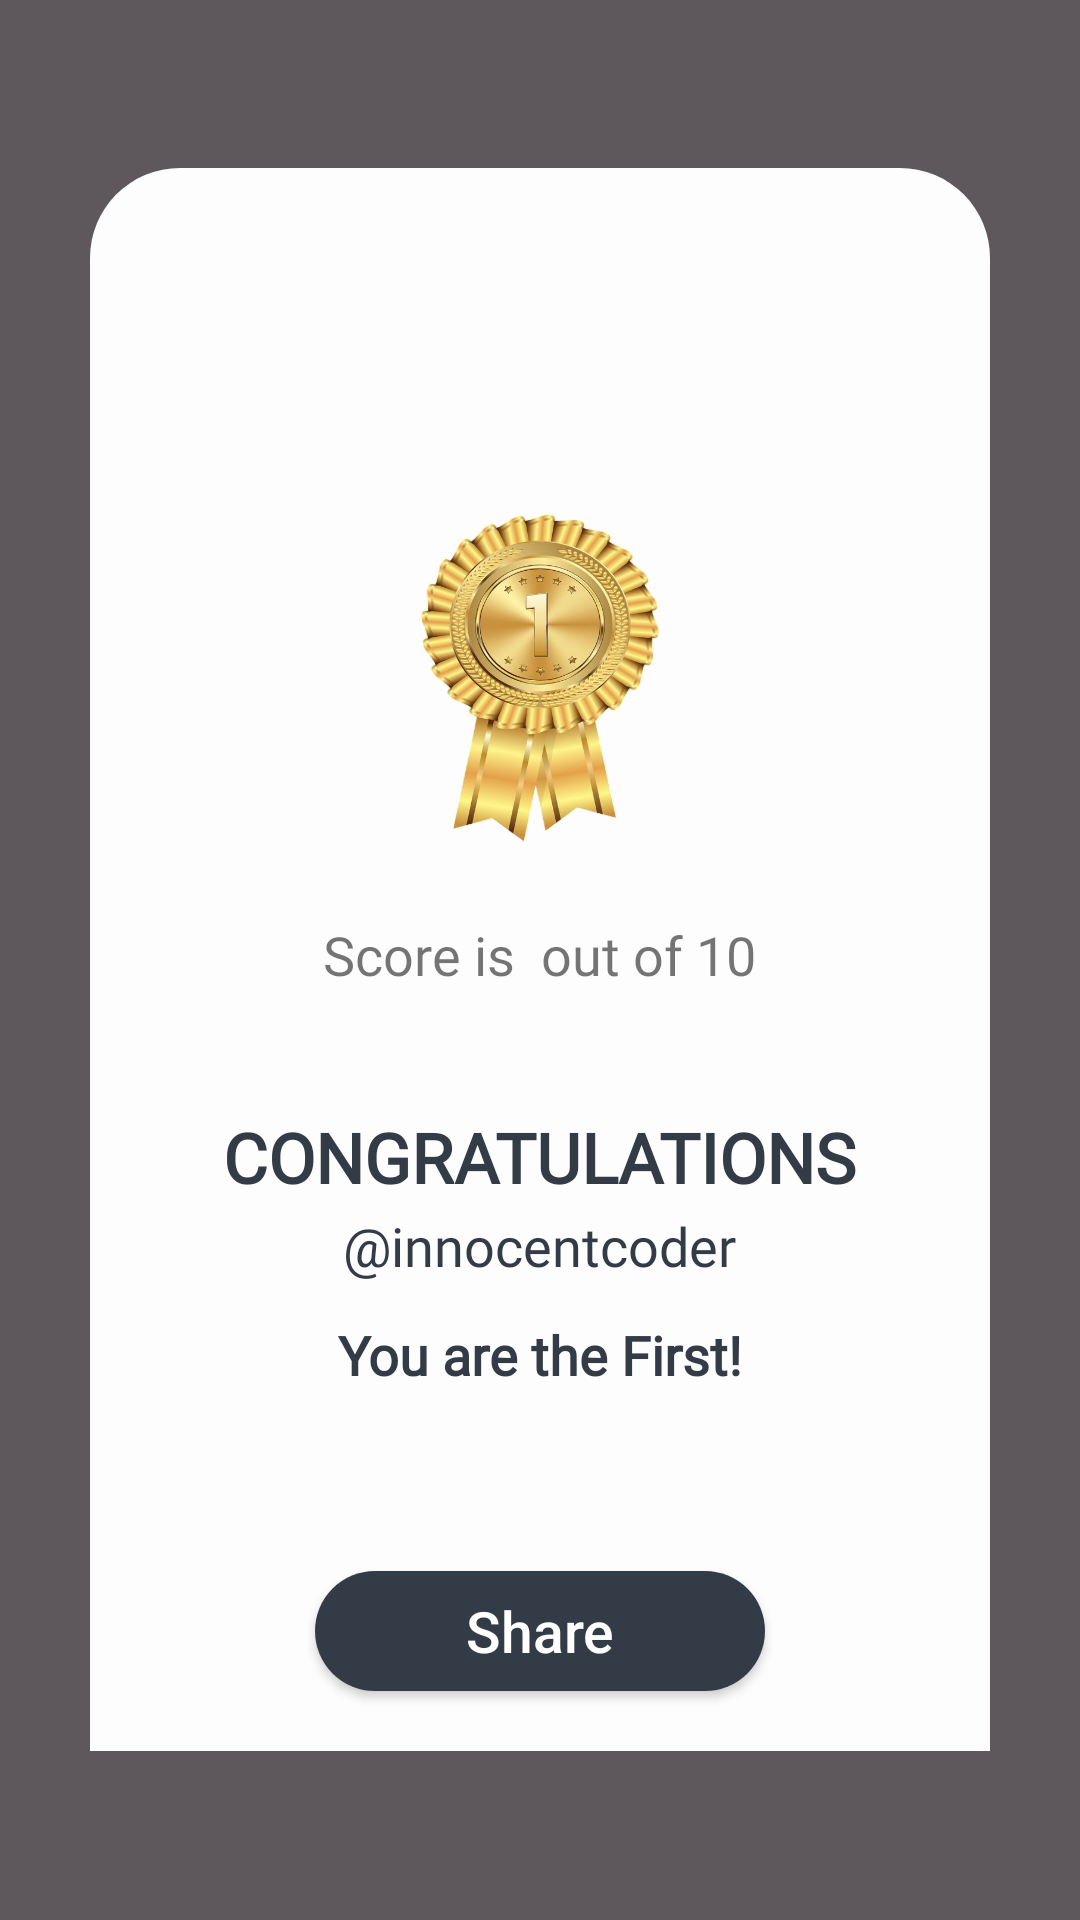

Icons on this 1080x1920 Android screen, each with its box as detection(x1, y1, x2, y2):
gold: detection(420, 514, 659, 841)
